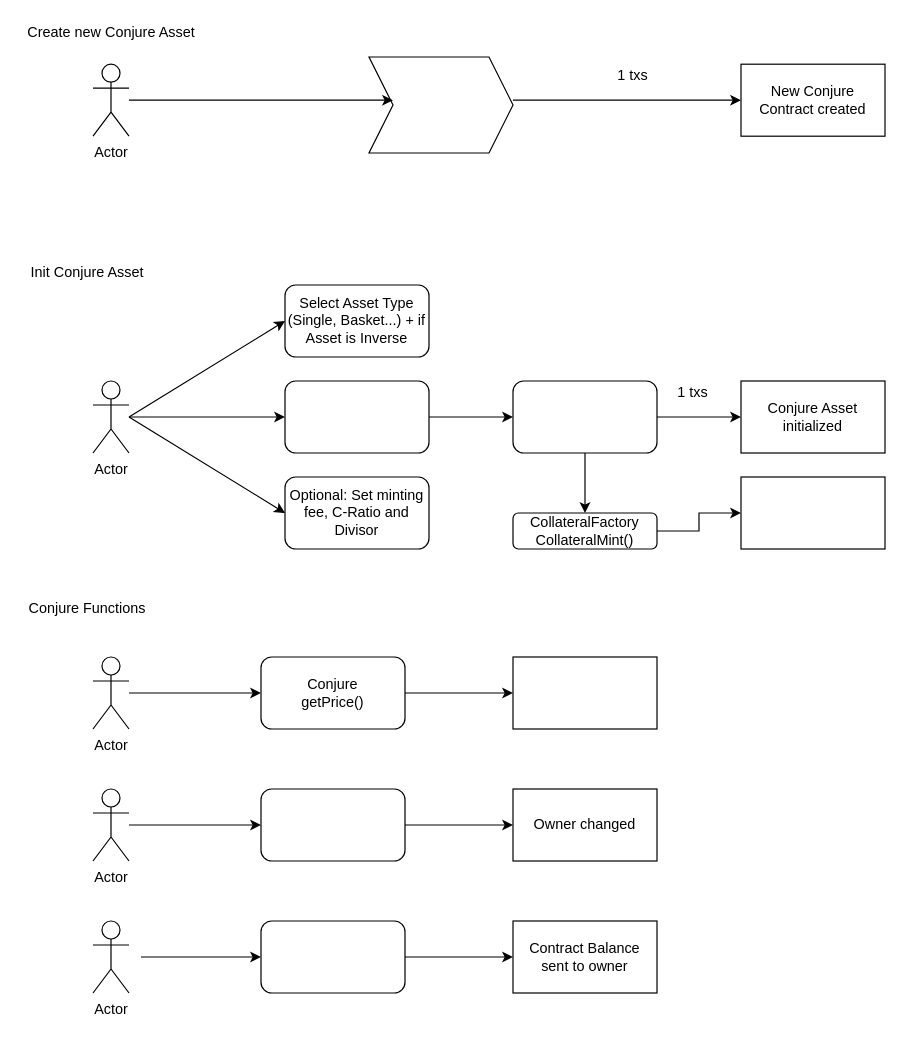
This 906x1038 diagram has some shape labels left out. Here are the shapes that lost their labels. From the top down, the box of each, then its label:
(368, 56, 513, 153): ConjureFactory ConjureMint()
(284, 380, 429, 453): Select 1..n Oracle Price Feeds
(512, 380, 657, 453): Conjure init()
(740, 476, 885, 549): Collateral Contract created
(512, 656, 657, 729): Price updated
(260, 788, 405, 861): Conjure changeOwner()
(260, 920, 405, 993): Conjure collectFees()
